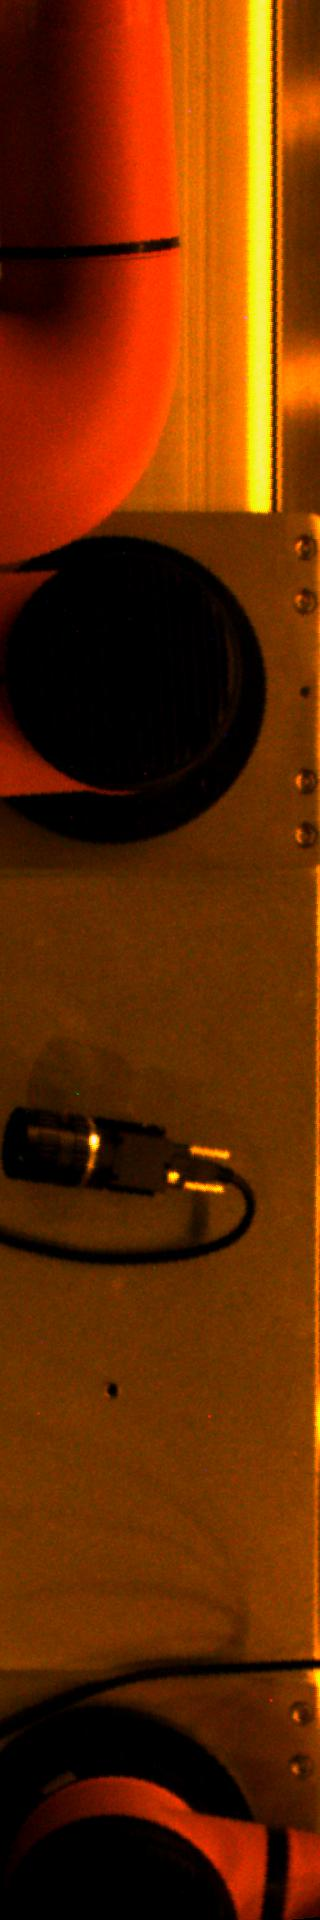keyPoint_2: (97, 1375, 128, 1404)
